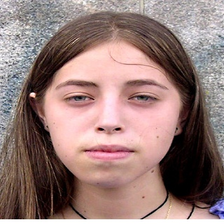no_mask: (50, 58, 179, 184)
